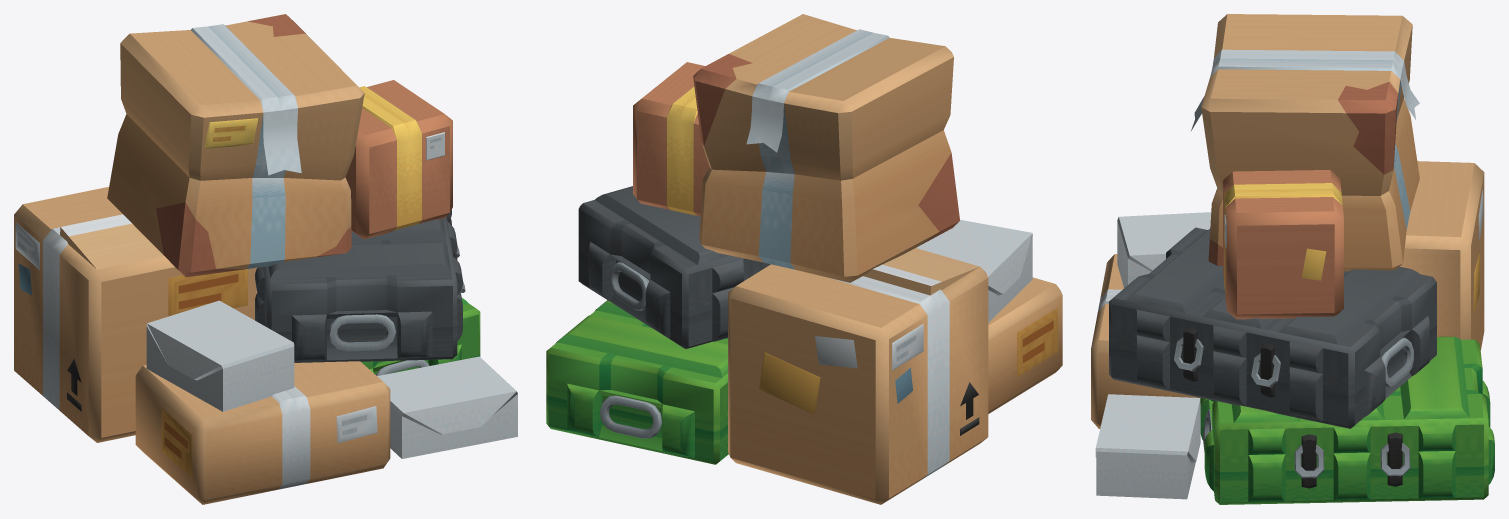
Rendered from Containers_Pile_Medium.gltf.
3 renders of one model, left to right at view 1: azimuth 30°, elevation 25°; view 2: azimuth 150°, elevation 25°; view 3: azimuth 270°, elevation 25°, orthographic. The views are drawn at different scales.
Visible parts, largest first — view 1: Containers_Pile_Medium; view 2: Containers_Pile_Medium; view 3: Containers_Pile_Medium.
Boxes of the visible parts, box(x1,y1,x2,y2) form: Containers_Pile_Medium: box(14, 14, 517, 504); Containers_Pile_Medium: box(546, 14, 1062, 504); Containers_Pile_Medium: box(1091, 14, 1494, 504).
Bounding box in the file's own units: 1.7 × 1.52 × 1.55.
Materials: 1 (1 with a texture image).
